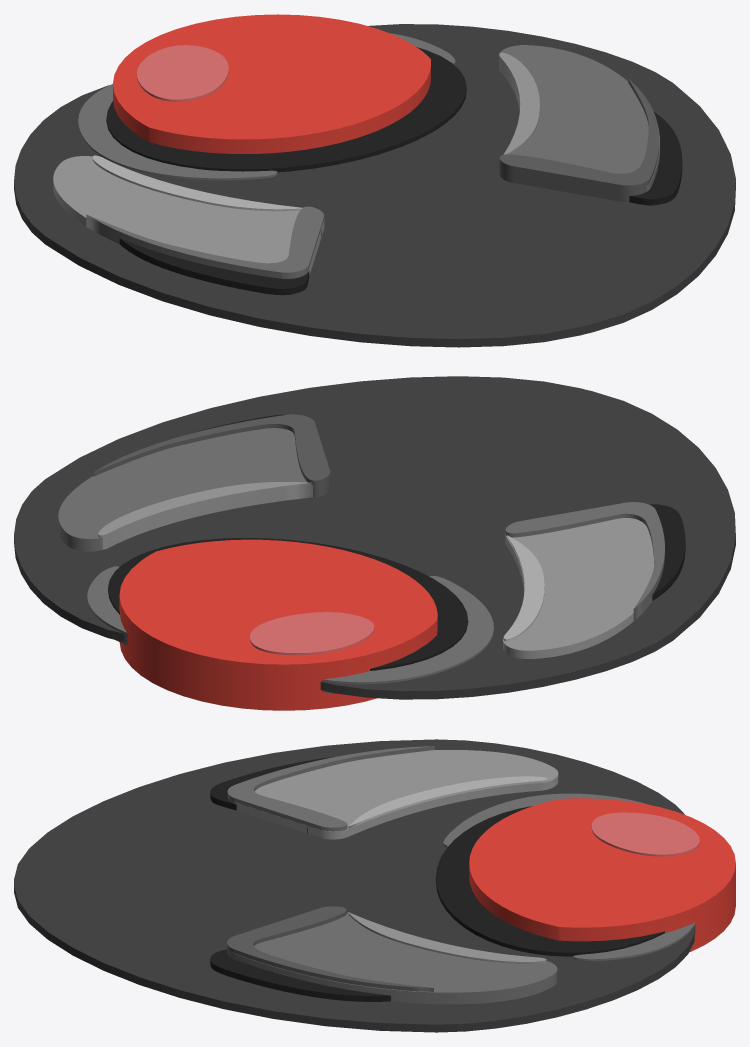
File: emoji_u1f5b2.glb
3 renders of one model, top to bottom at view 1: azimuth 30°, elevation 25°; view 2: azimuth 150°, elevation 25°; view 3: azimuth 270°, elevation 25°, orthographic. The views are drawn at different scales.
Parts seen in each view (by area): view 1: emoji_u1f5b2; view 2: emoji_u1f5b2; view 3: emoji_u1f5b2.
Part boxes in pixels (bbox=[...]): emoji_u1f5b2: bbox=[14, 14, 735, 347]; emoji_u1f5b2: bbox=[14, 376, 735, 710]; emoji_u1f5b2: bbox=[14, 739, 735, 1032].
Size of the model in its own units: 0.0313 by 0.0024 by 0.0335.
